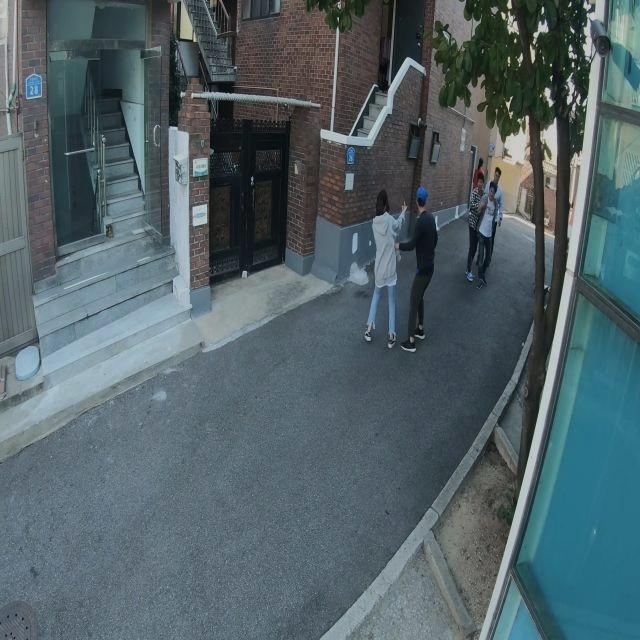non-fight: (357, 184, 406, 352), (396, 186, 442, 353), (466, 180, 503, 287)
